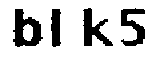5: (117, 6, 153, 52)
b: (10, 6, 42, 49)
k: (77, 1, 113, 51)
l: (48, 6, 72, 52)
